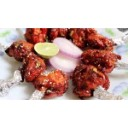chicken_lollipop: (1, 53, 69, 100), (76, 50, 128, 100), (72, 25, 124, 52), (5, 25, 44, 55)
